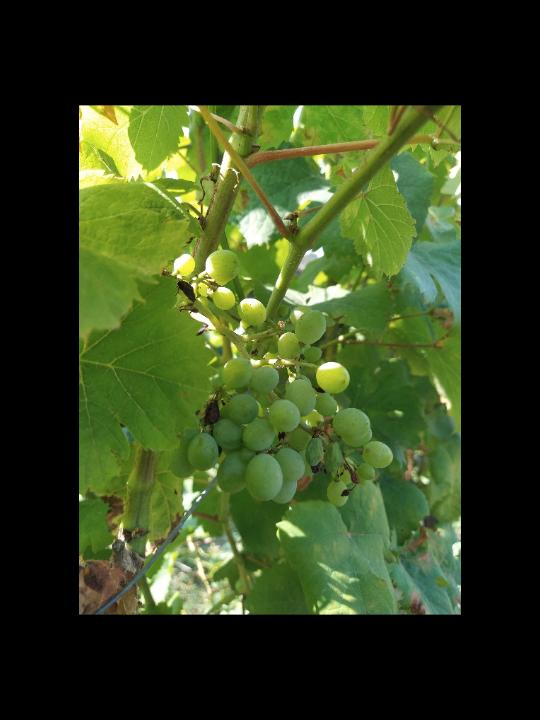grape: (172, 247, 394, 511)
